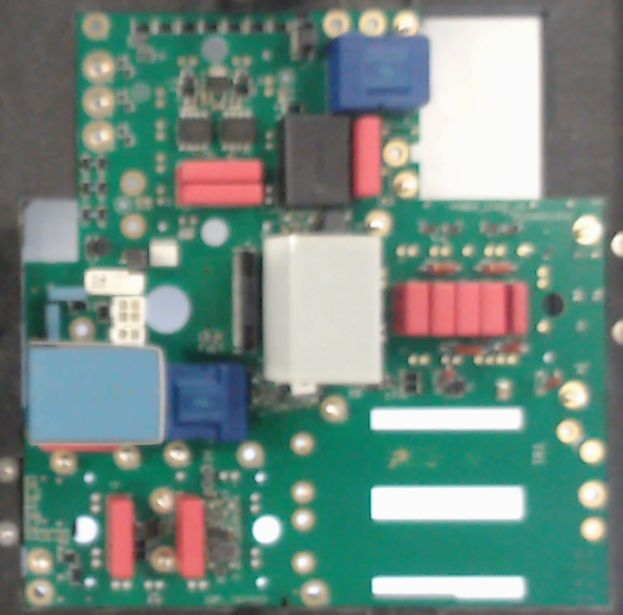comp1: (331, 34, 431, 113), (165, 362, 249, 442)
comp2: (170, 493, 207, 579), (103, 491, 136, 579), (174, 181, 264, 208), (353, 114, 382, 197), (175, 159, 263, 182), (394, 277, 427, 338), (428, 281, 455, 339), (482, 281, 508, 339), (456, 281, 479, 338), (509, 284, 530, 338)
comp3: (278, 112, 354, 205)
comp4: (260, 234, 382, 386), (23, 339, 171, 446)
